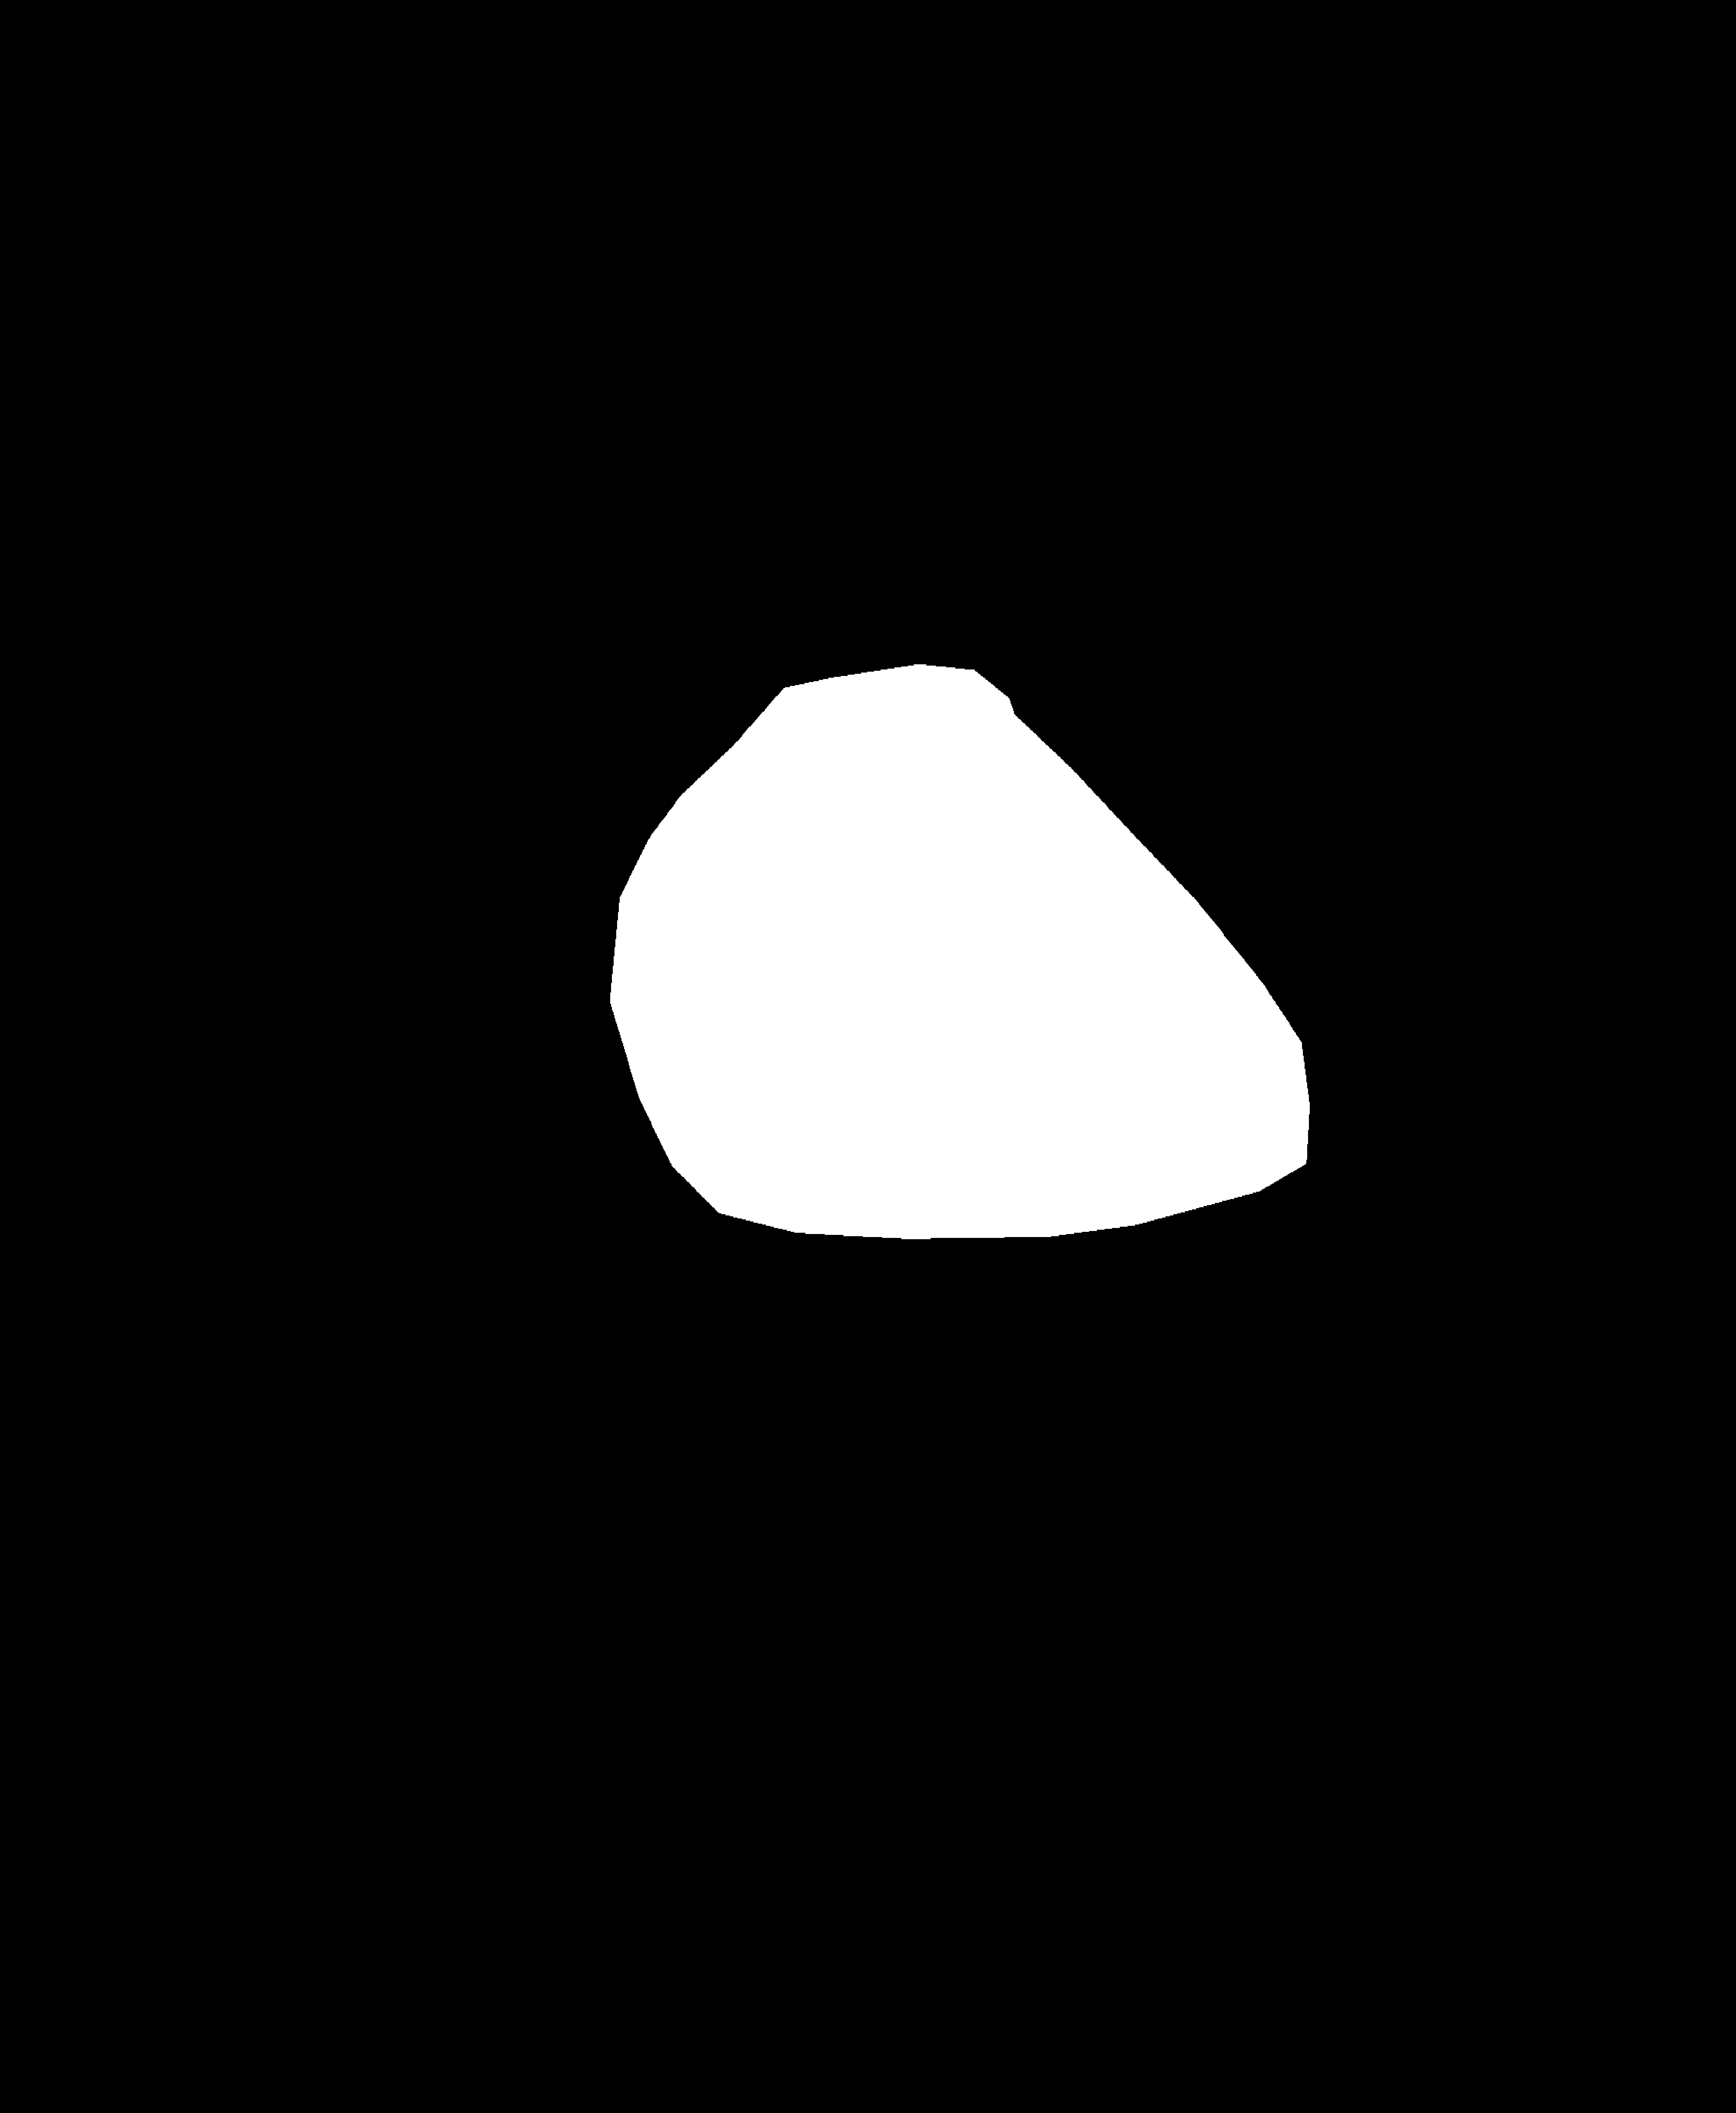heart: (602, 700, 1311, 1276)
left_lung: (193, 140, 786, 1418)
right_lung: (904, 112, 1496, 1278)
